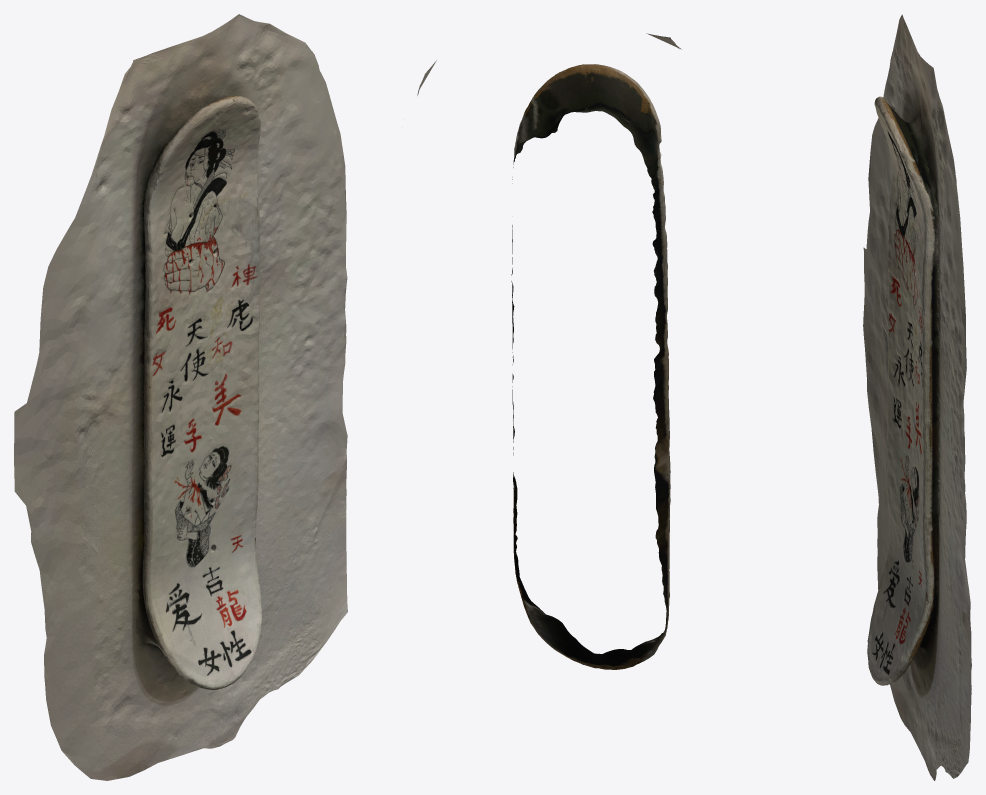
The model's file is skate.glb.
3 renders of one model, left to right at view 1: azimuth 30°, elevation 25°; view 2: azimuth 150°, elevation 25°; view 3: azimuth 270°, elevation 25°, orthographic. The views are drawn at different scales.
Bounding box in the file's own units: 0.5437 × 0.9765 × 0.1342.
Materials: 1 (1 with a texture image).
